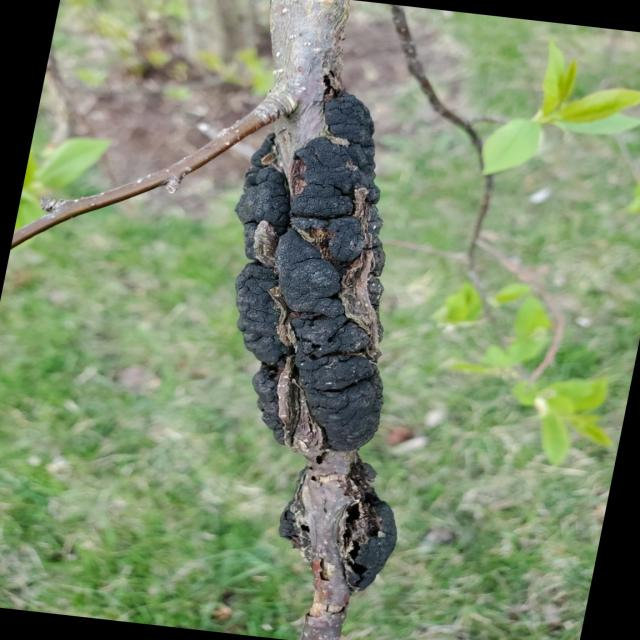Black_knot: (233, 91, 397, 600)
